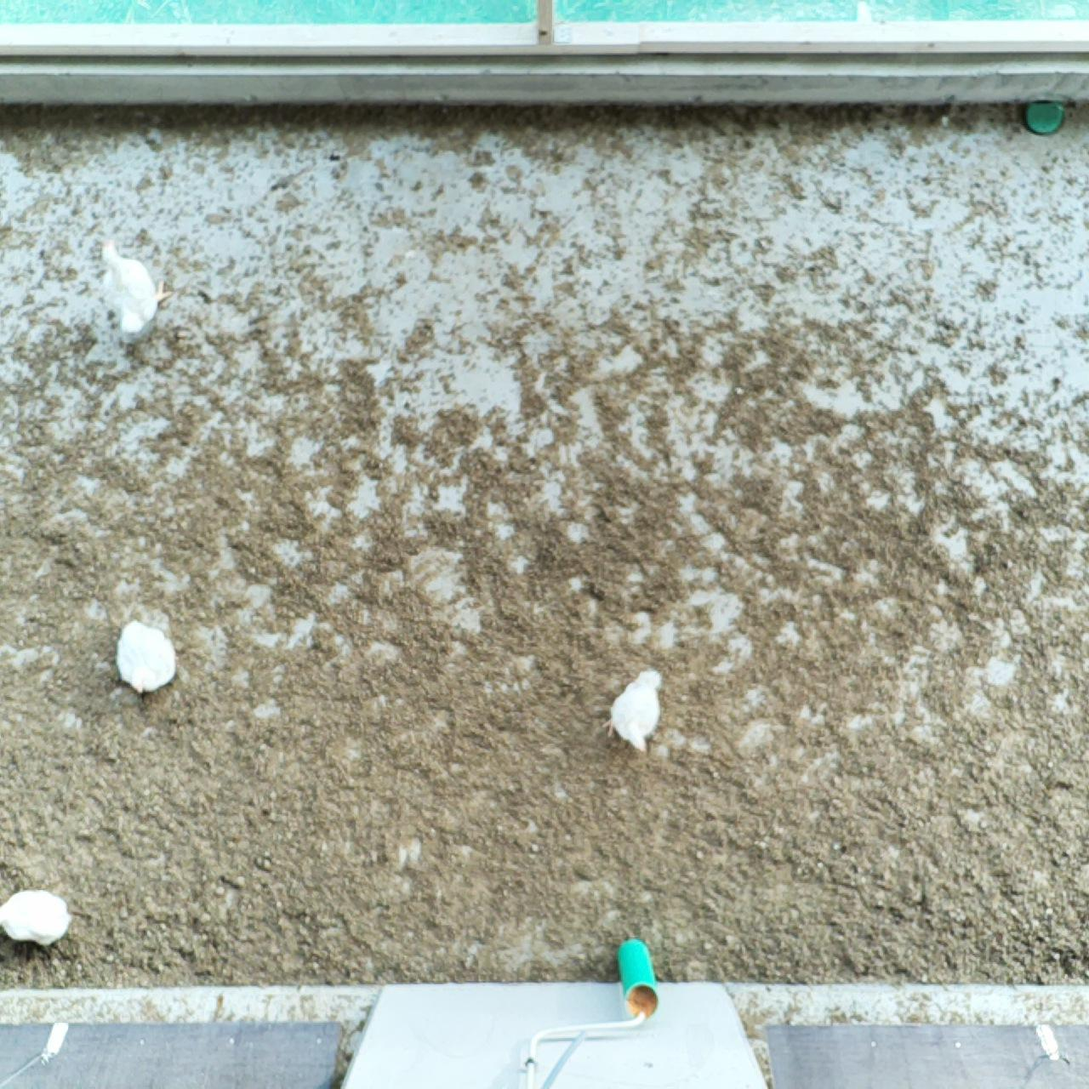chicken: (96, 234, 173, 337), (602, 664, 669, 757), (113, 614, 183, 695), (0, 886, 74, 949)
